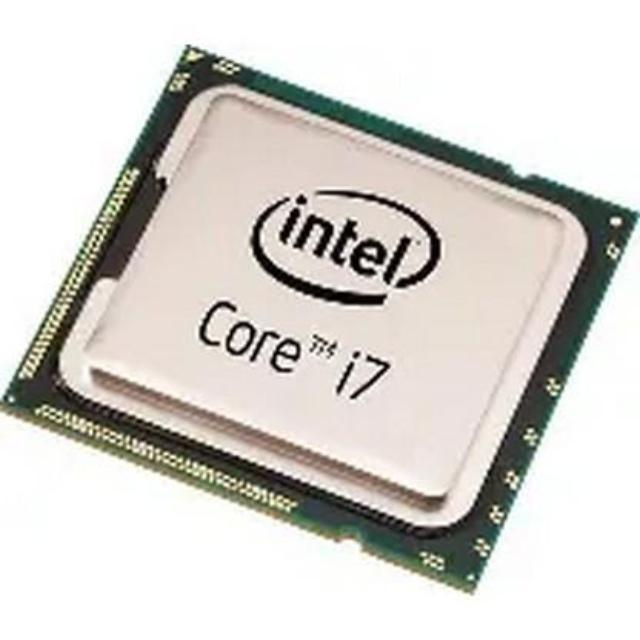CPU: (36, 61, 596, 554)
